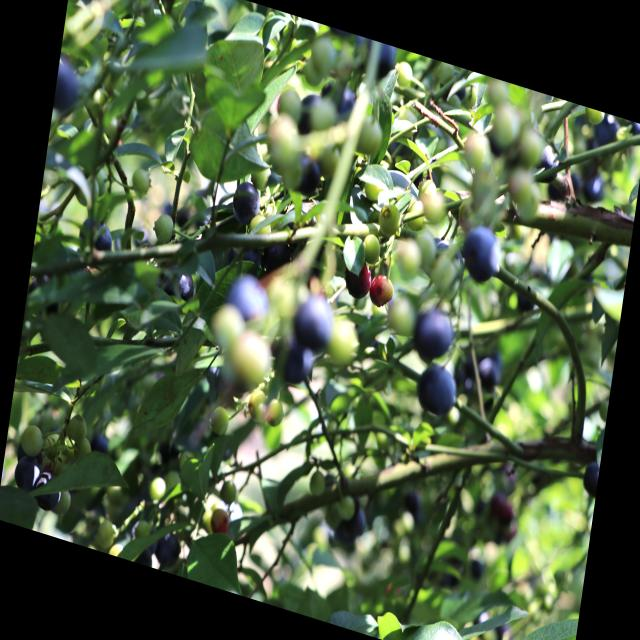blueberry: (290, 286, 336, 356), (222, 270, 270, 335), (411, 302, 456, 364), (414, 357, 458, 419), (461, 223, 503, 287), (274, 333, 316, 386), (226, 178, 262, 231), (77, 215, 115, 258), (31, 466, 64, 514), (161, 258, 194, 302), (9, 452, 42, 494)
blueberry-halfripe: (353, 112, 385, 160), (342, 258, 374, 301), (366, 271, 396, 309), (376, 200, 403, 235), (151, 212, 177, 248), (245, 387, 269, 425), (362, 172, 386, 206), (210, 402, 232, 437), (415, 173, 437, 208), (406, 198, 427, 233), (128, 166, 150, 198), (362, 230, 382, 263), (265, 396, 285, 429), (392, 58, 414, 88)
